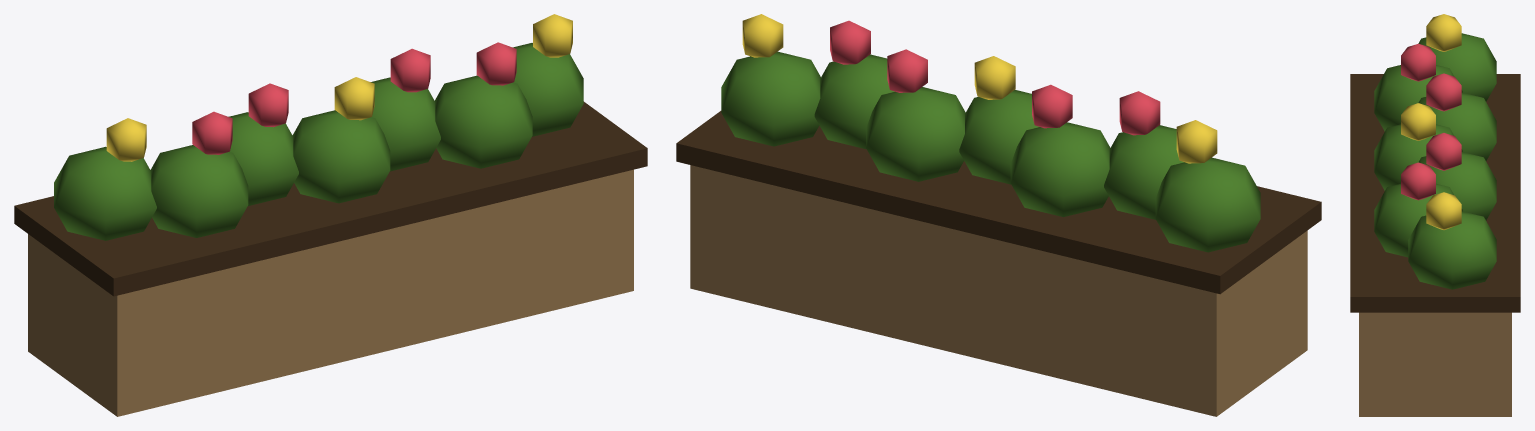
File: mv_planter.glb
3 views of the same model, side by side, from view 1: azimuth 30°, elevation 25°; view 2: azimuth 150°, elevation 25°; view 3: azimuth 270°, elevation 25° (orthographic). The views are drawn at different scales.
Parts seen in each view (by area): view 1: mv_planter; view 2: mv_planter; view 3: mv_planter.
Boxes of the visible parts, x1=… form: mv_planter: x1=14, y1=14, x2=647, y2=416; mv_planter: x1=676, y1=14, x2=1321, y2=416; mv_planter: x1=1350, y1=14, x2=1520, y2=416.
Bounding box in the file's own units: 1.24 × 0.55 × 0.4.
